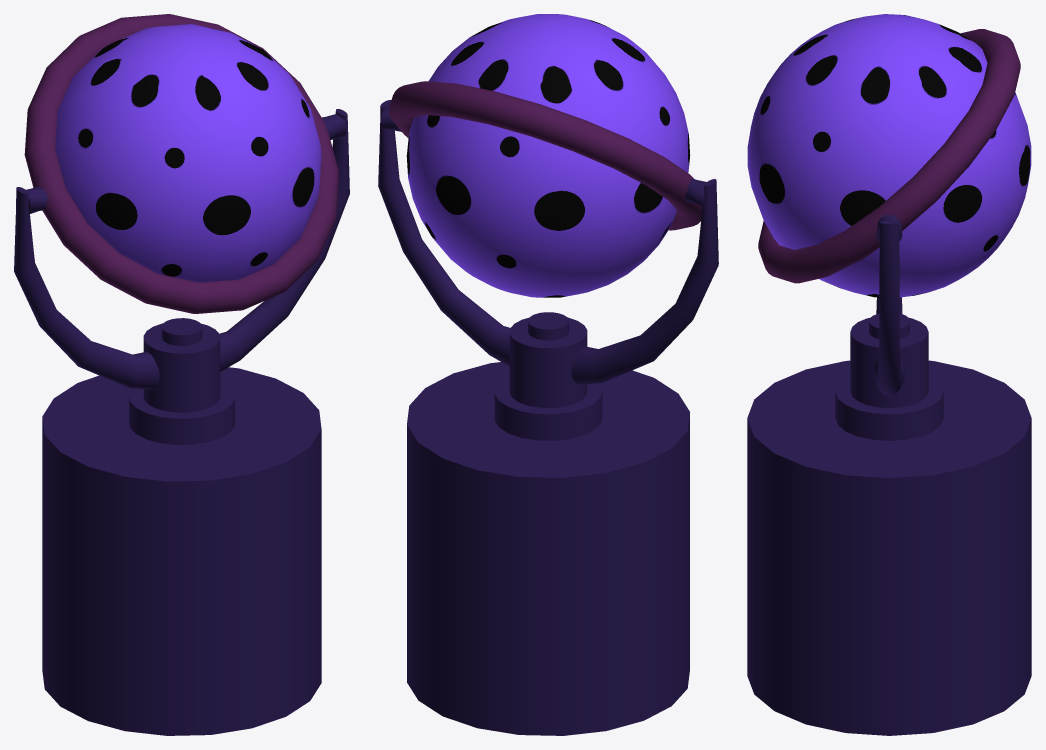
The model's file is 投影機.fbx.
3 renders of one model, left to right at view 1: azimuth 30°, elevation 25°; view 2: azimuth 150°, elevation 25°; view 3: azimuth 270°, elevation 25°, orthographic.
Visible parts, largest first — view 1: 球体, obj1; view 2: 球体, obj1; view 3: 球体, obj1.
Boxes of the visible parts, x1,y1,x2,y2 form: 球体: [42, 24, 321, 735]; obj1: [14, 14, 349, 444]; 球体: [406, 14, 690, 735]; obj1: [378, 81, 718, 440]; 球体: [747, 14, 1031, 735]; obj1: [758, 29, 1020, 440].
Size of the model in its own units: 5488 by 10060 by 4000.
3 materials, 1 textured.
